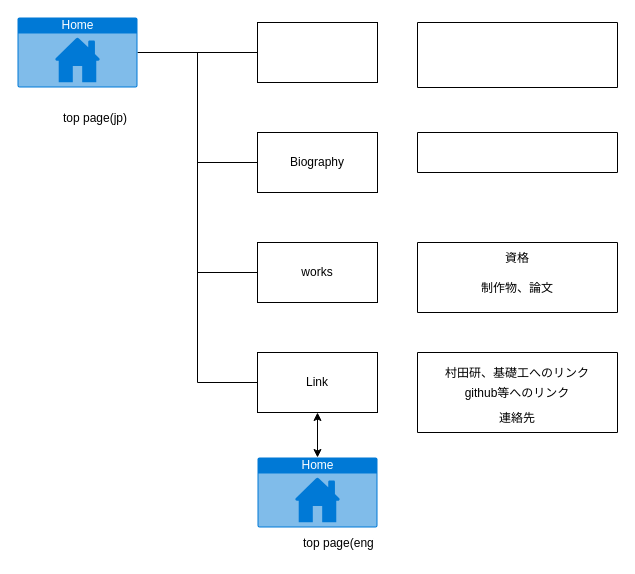
Some shapes in this 635 by 574 pixel diagram are drawn without their labels. Each missing label, with the centre of its shape:
About: the point at 317,52
氏名、所属: the point at 517,55
略歴: the point at 517,152
